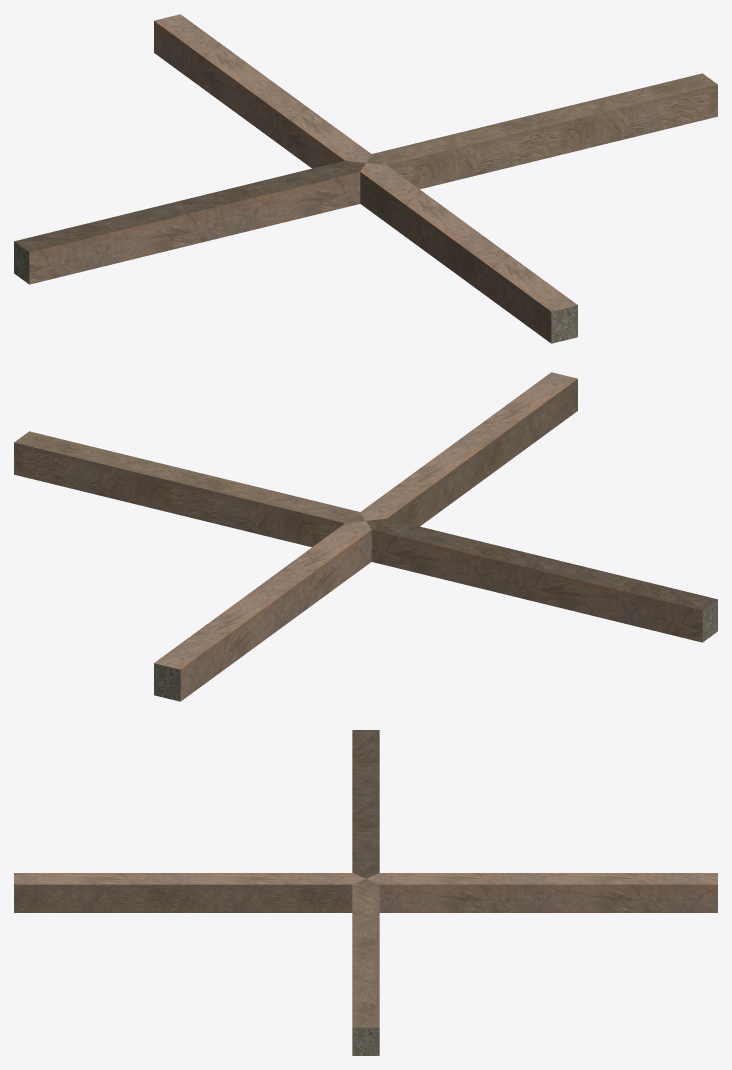
Rendered from WoodCenterScaffoldE.fbx.
3 views of the same model, one above another, from view 1: azimuth 30°, elevation 25°; view 2: azimuth 150°, elevation 25°; view 3: azimuth 270°, elevation 25° (orthographic). The views are drawn at different scales.
Visible parts, largest first — view 1: WoodCenterScaffoldE; view 2: WoodCenterScaffoldE; view 3: WoodCenterScaffoldE.
Part boxes in pixels (<box>): WoodCenterScaffoldE: <box>14,14,717,343</box>; WoodCenterScaffoldE: <box>14,372,717,701</box>; WoodCenterScaffoldE: <box>14,730,717,1055</box>.
Size of the model in its own units: 778 by 34.6 by 778.
